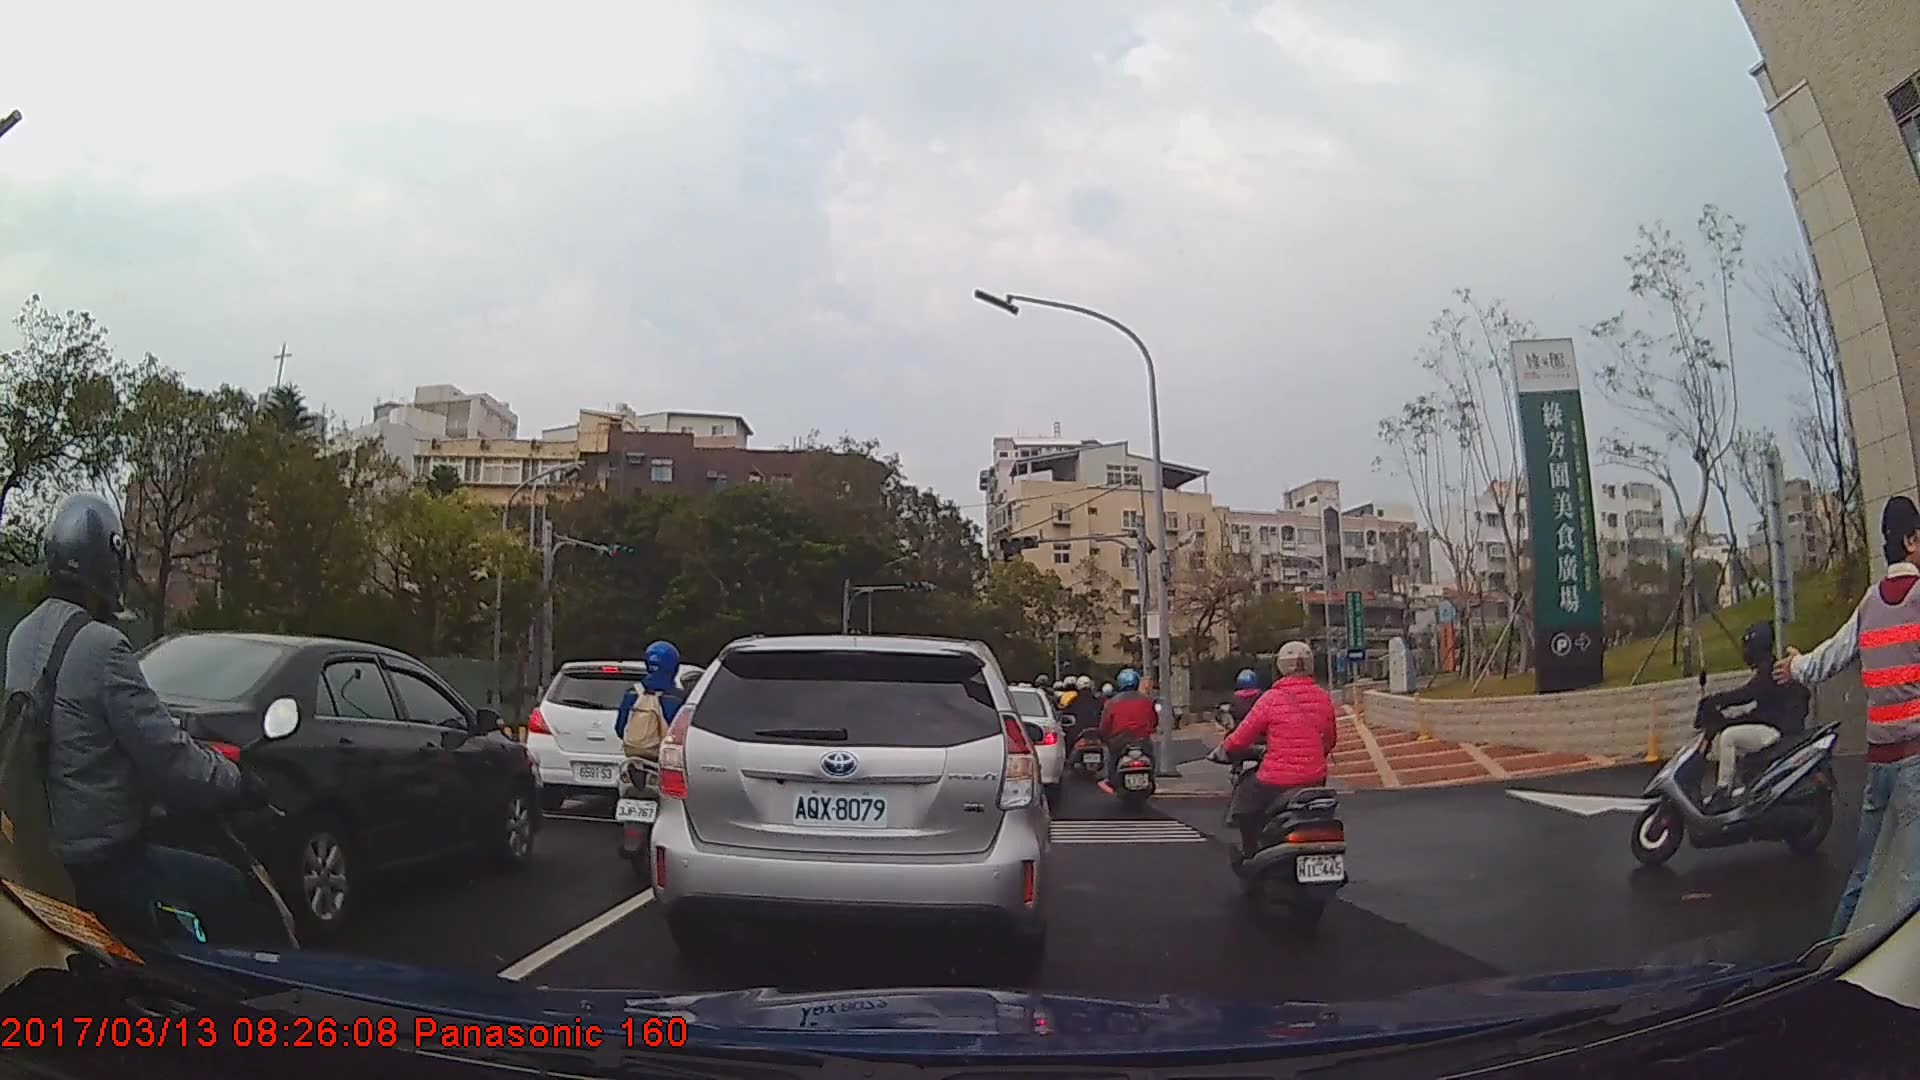pedestrian: (1781, 495, 1920, 979)
rider: (1, 493, 304, 1080), (1633, 624, 1846, 862), (1218, 640, 1347, 939), (613, 635, 706, 884), (1097, 666, 1165, 820), (1224, 665, 1273, 811), (1067, 674, 1109, 783)
vehicle: (24, 629, 539, 935), (648, 634, 1050, 954), (525, 661, 738, 813), (959, 684, 1066, 800)
